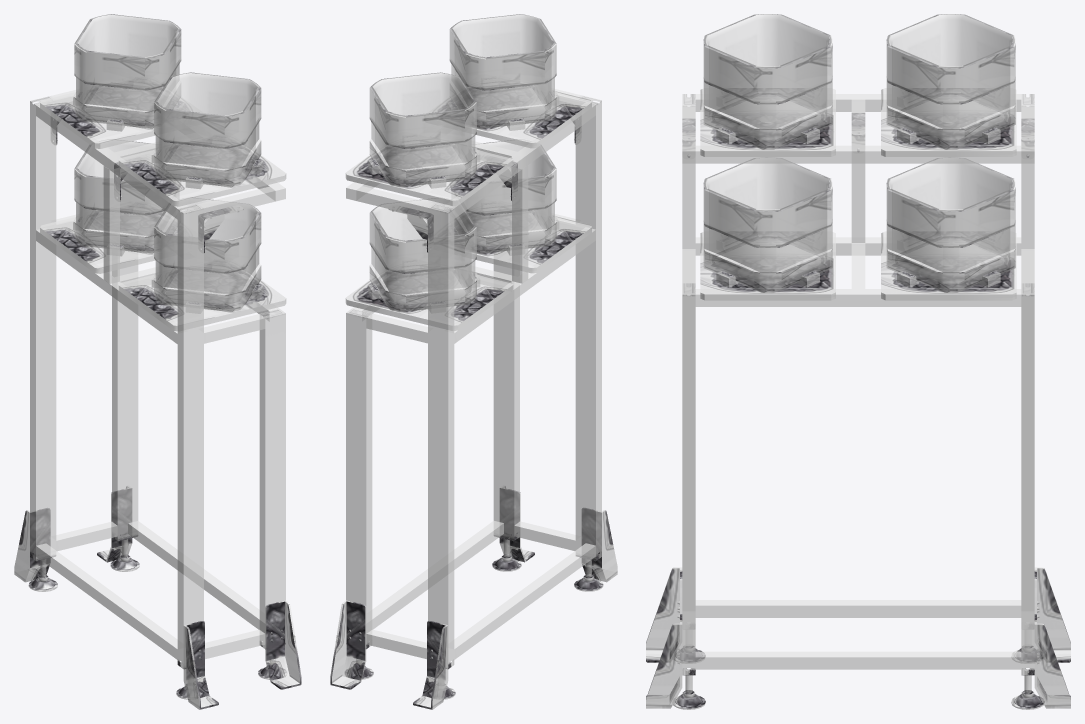
File: DISPENSER.glb
3 renders of one model, left to right at view 1: azimuth 30°, elevation 25°; view 2: azimuth 150°, elevation 25°; view 3: azimuth 270°, elevation 25°, orthographic. The views are drawn at different scales.
Visible parts, largest first — view 1: DISPENSER; view 2: DISPENSER; view 3: DISPENSER.
Part boxes in pixels (x1,y1,x2,y2): DISPENSER: (14, 14, 301, 709); DISPENSER: (330, 14, 617, 709); DISPENSER: (646, 14, 1070, 709).
Bounding box in the file's own units: 0.3374 × 1.58 × 0.94.
Materials: 1 (1 with a texture image).
